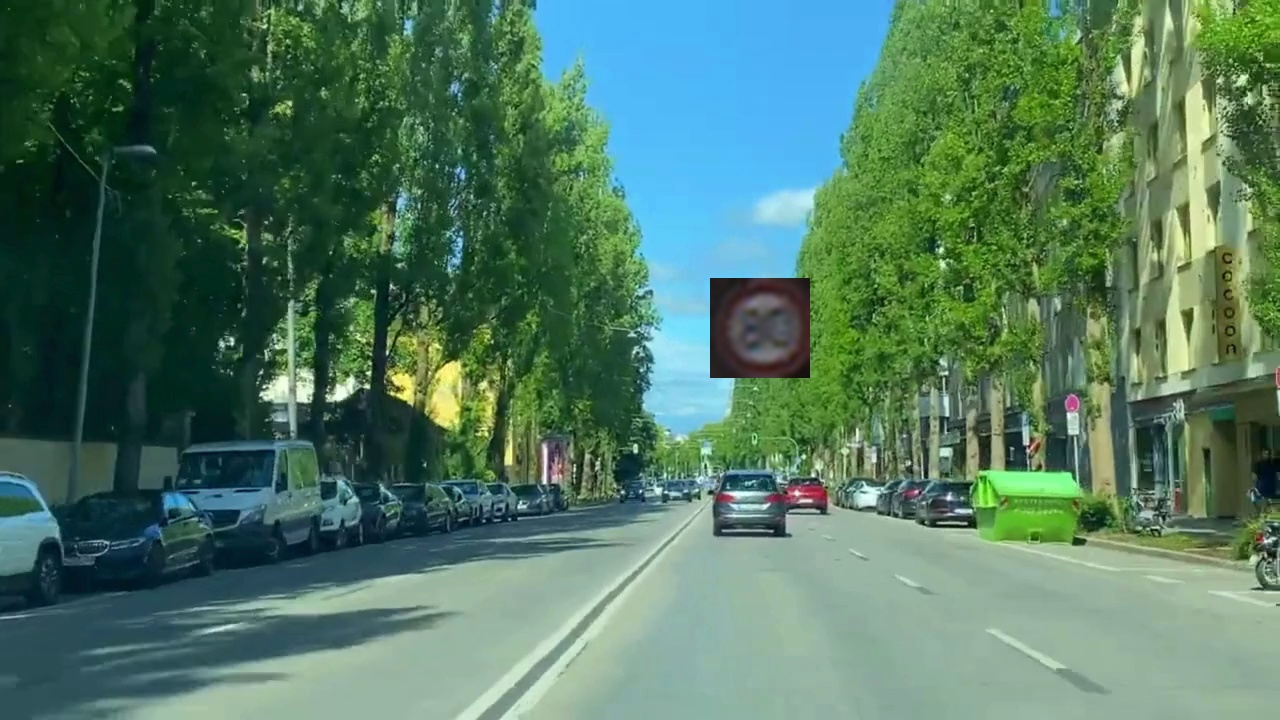Speed 80: (710, 278, 810, 378)
